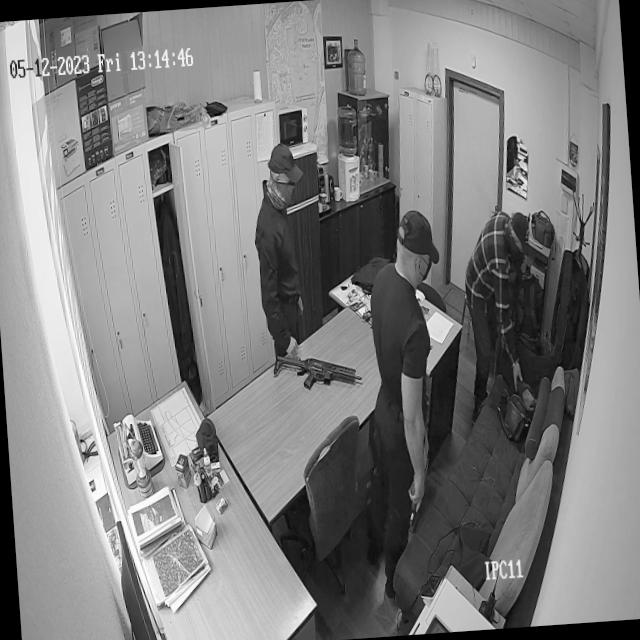gun: (272, 348, 364, 394), (407, 476, 427, 526)
person: (460, 204, 538, 377), (253, 140, 311, 343)
person with a gun: (363, 210, 448, 531)
